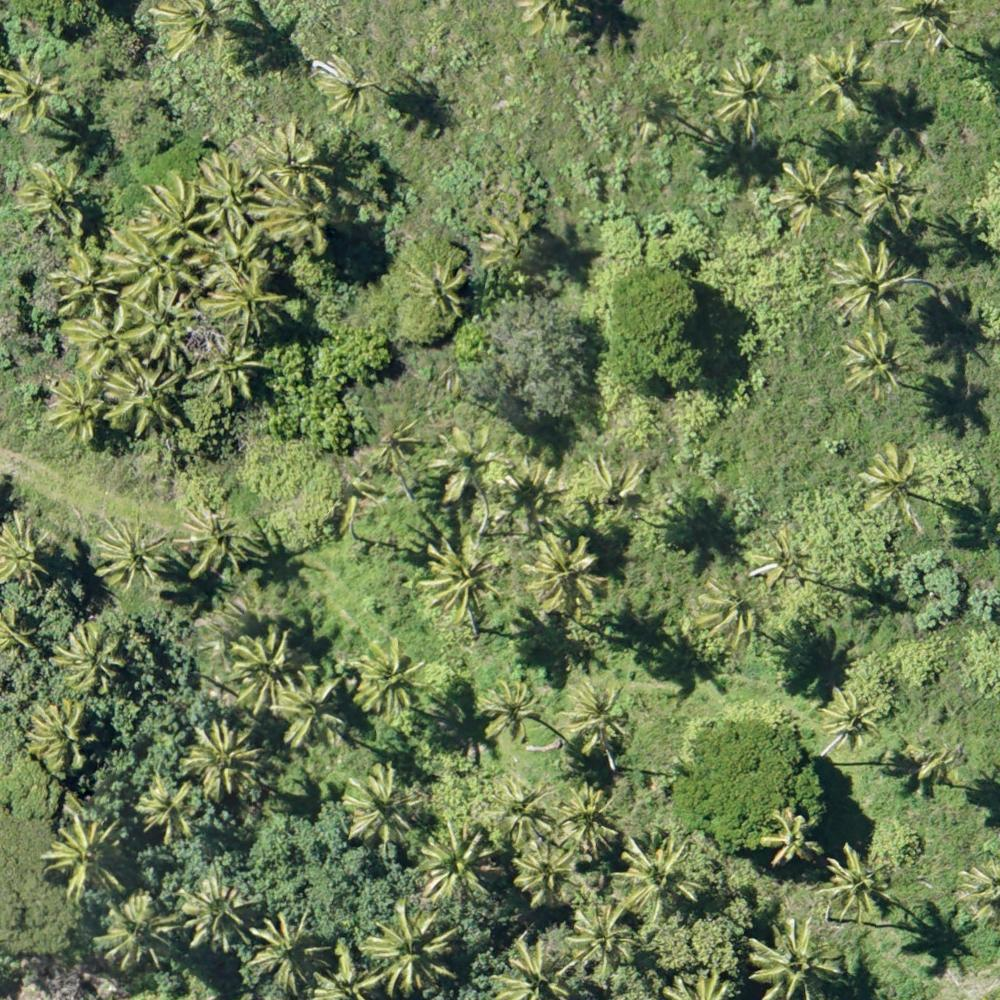Palm: (362, 902, 457, 992), (618, 831, 712, 921), (419, 535, 509, 624), (747, 918, 844, 1000), (414, 818, 501, 905), (39, 814, 126, 898), (825, 236, 906, 321), (102, 229, 193, 304), (102, 360, 192, 435), (63, 304, 155, 374), (342, 764, 423, 842), (251, 914, 334, 990), (226, 630, 303, 711), (255, 173, 335, 250), (178, 871, 254, 952), (253, 121, 330, 200), (195, 152, 267, 236), (528, 538, 609, 612), (179, 502, 261, 575), (855, 447, 931, 525), (90, 518, 170, 590), (181, 723, 257, 798), (356, 642, 430, 719), (207, 263, 287, 334), (99, 894, 171, 971), (275, 674, 347, 748), (714, 54, 784, 130), (20, 161, 91, 234), (695, 582, 769, 652), (824, 849, 895, 921), (189, 335, 263, 404), (25, 706, 99, 775), (778, 158, 846, 233), (39, 377, 111, 447), (561, 680, 634, 748), (315, 56, 386, 125), (437, 423, 504, 495), (51, 249, 123, 313), (56, 628, 129, 691), (407, 258, 475, 325), (471, 679, 542, 742), (1, 512, 59, 589), (808, 48, 874, 115), (854, 160, 920, 227), (570, 908, 637, 974), (1, 59, 62, 131), (488, 777, 553, 844), (840, 330, 905, 396), (138, 774, 196, 847), (821, 683, 885, 748), (558, 786, 623, 849), (515, 839, 581, 901), (746, 525, 809, 585), (759, 805, 824, 863)
